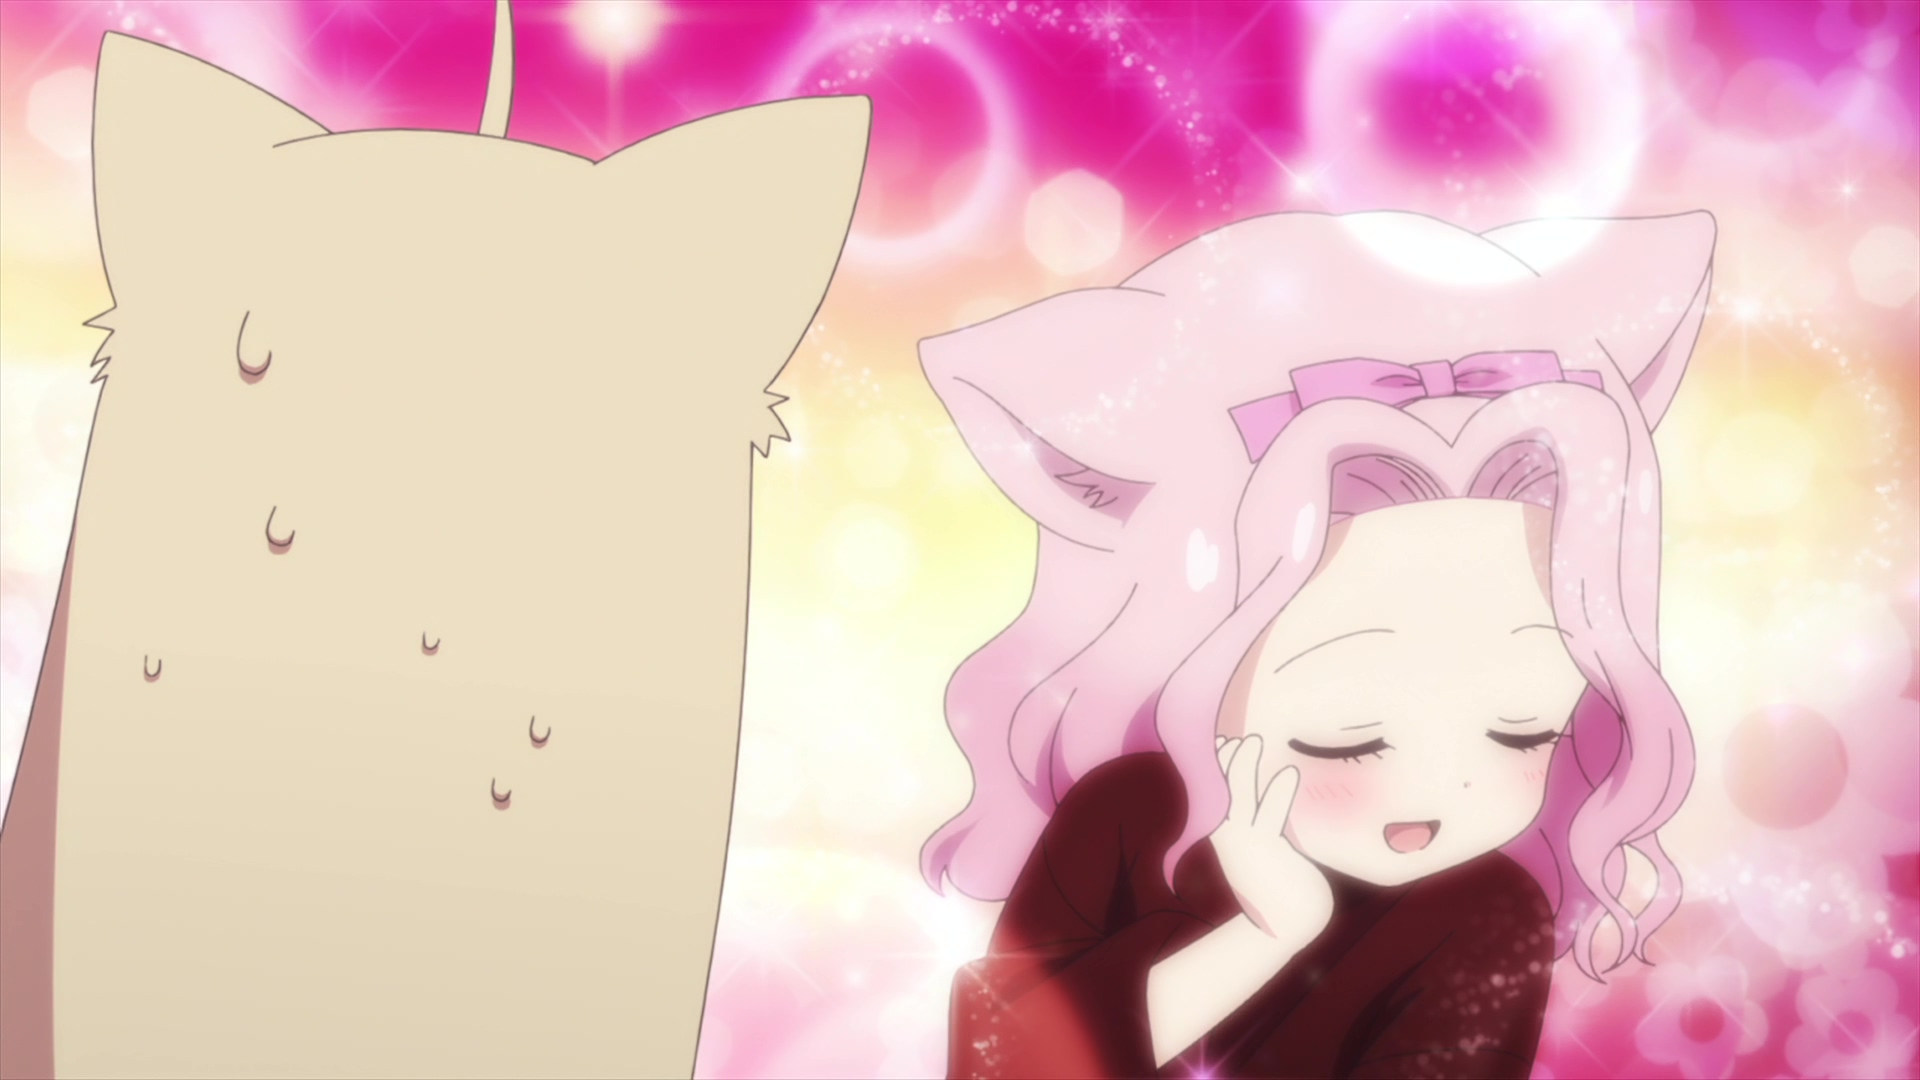柚: (1, 1, 872, 1080)
莲: (920, 208, 1720, 1080)
